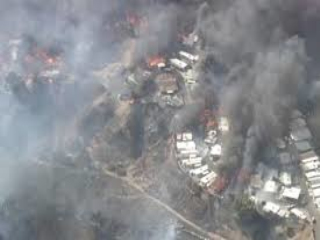smoke: (9, 89, 176, 235), (190, 13, 302, 215)
